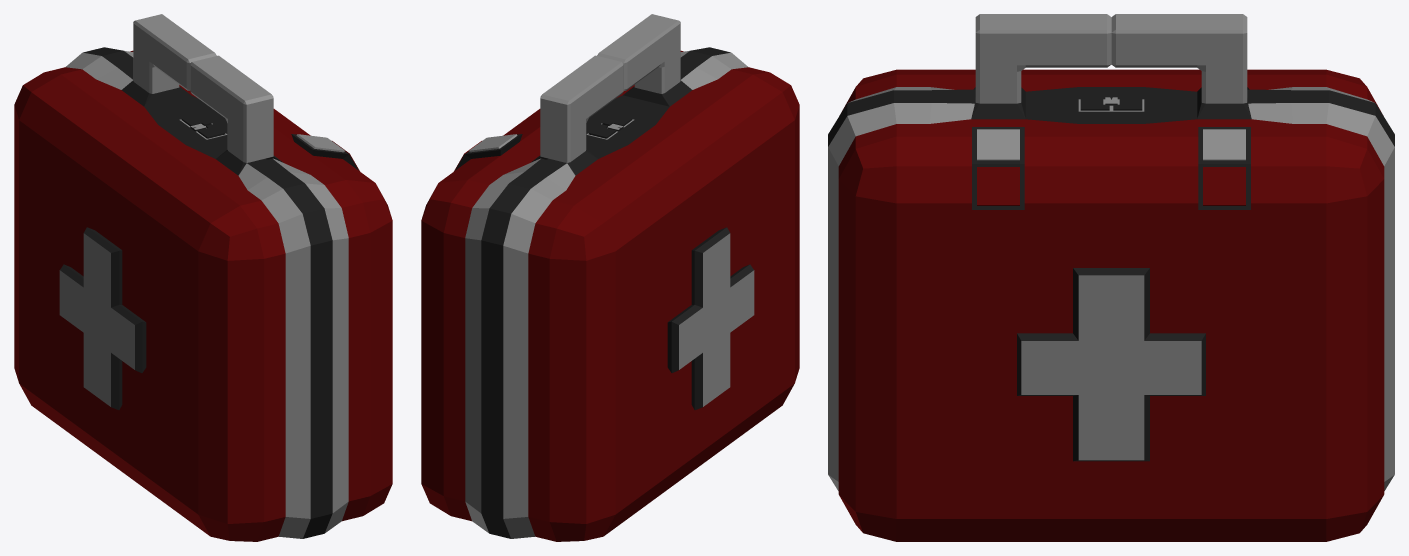
The model's file is Botiquin.fbx.
The picture shows the model from 3 angles, left to right: view 1: azimuth 30°, elevation 25°; view 2: azimuth 150°, elevation 25°; view 3: azimuth 270°, elevation 25°; orthographic projection. The views are drawn at different scales.
Parts seen in each view (by area): view 1: Cube; view 2: Cube; view 3: Cube.
Part boxes in pixels (x1=…): Cube: x1=14, y1=14, x2=392, y2=541; Cube: x1=421, y1=14, x2=799, y2=541; Cube: x1=828, y1=14, x2=1394, y2=541.
Size of the model in its own units: 108 by 198 by 208.
